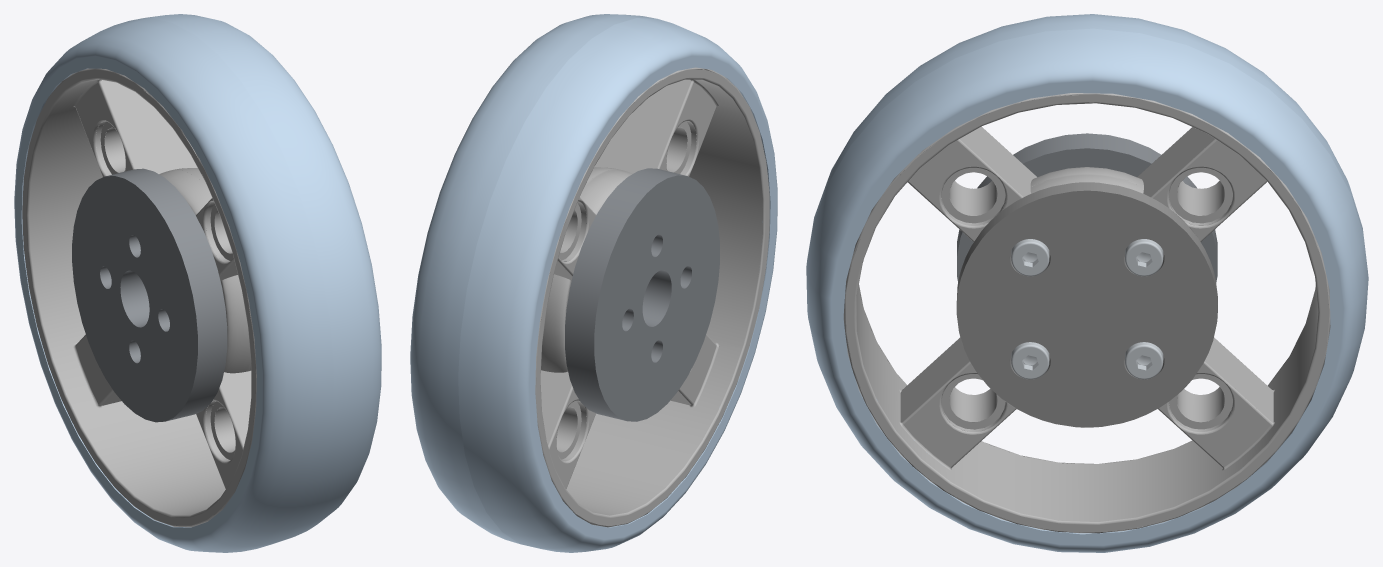
Rendered from main_wheel.dae.
3 views of the same model, side by side, from view 1: azimuth 30°, elevation 25°; view 2: azimuth 150°, elevation 25°; view 3: azimuth 270°, elevation 25° (orthographic). The views are drawn at different scales.
Parts seen in each view (by area): view 1: Part 1.001, Part 2.001, L_WHEEL_ASSY; view 2: Part 1.001, Part 2.001, L_WHEEL_ASSY; view 3: Part 1.001, Part 2.001, L_WHEEL_ASSY.
Boxes of the visible parts, <box> form: Part 1.001: <box>14,14,381,552</box>; Part 2.001: <box>22,68,256,527</box>; L_WHEEL_ASSY: <box>72,168,227,422</box>; Part 1.001: <box>410,14,777,552</box>; Part 2.001: <box>535,67,769,527</box>; L_WHEEL_ASSY: <box>564,168,719,421</box>; Part 1.001: <box>806,14,1368,552</box>; Part 2.001: <box>843,93,1330,533</box>; L_WHEEL_ASSY: <box>956,133,1217,427</box>.
Size of the model in its own units: 0.0145 by 0.0559 by 0.0559.
